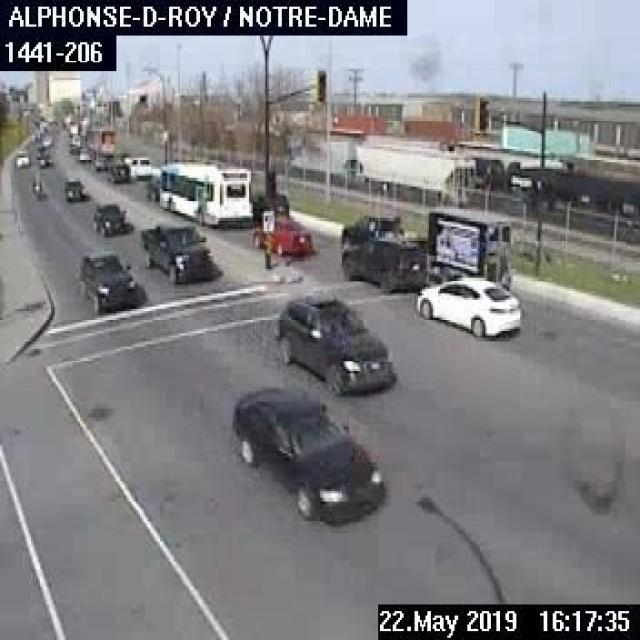bus: (154, 154, 250, 228)
vehicle: (227, 380, 384, 524), (336, 203, 512, 291), (271, 291, 394, 396), (411, 270, 522, 340), (339, 234, 428, 294), (139, 222, 208, 283), (74, 249, 135, 311), (251, 207, 313, 251), (91, 200, 125, 236), (124, 153, 151, 182), (103, 156, 126, 182), (62, 176, 84, 200), (28, 170, 44, 196), (13, 148, 29, 168), (34, 149, 52, 166), (93, 156, 104, 170)
